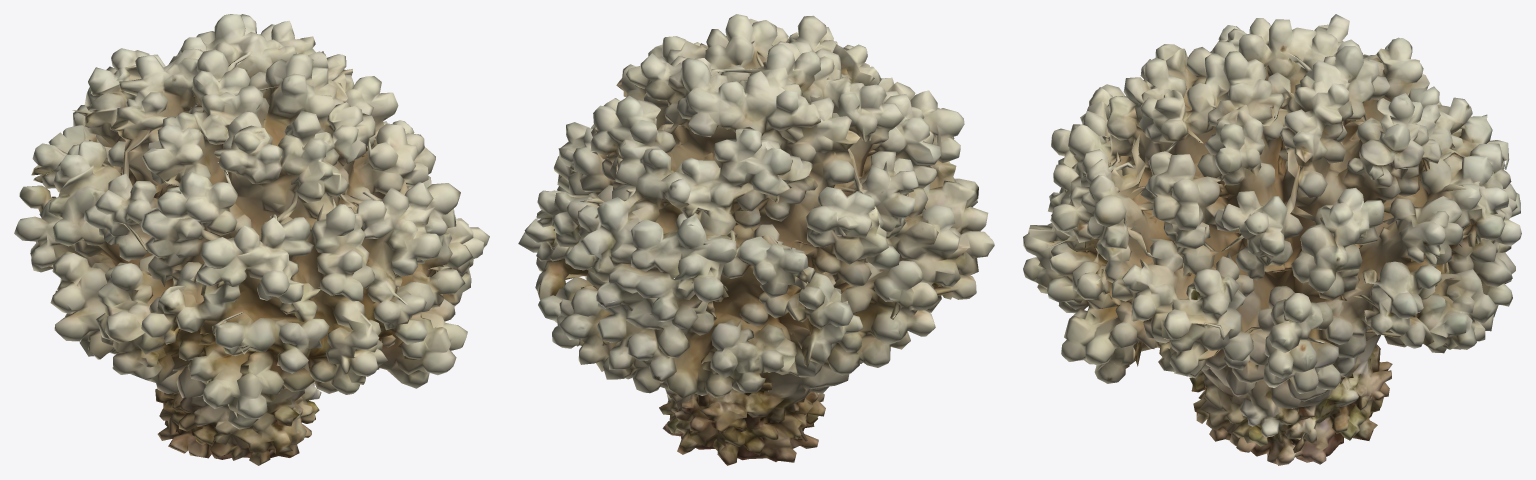
Rendered from coral_bubble.glb.
3 views of the same model, side by side, from view 1: azimuth 30°, elevation 25°; view 2: azimuth 150°, elevation 25°; view 3: azimuth 270°, elevation 25° (orthographic).
Visible parts, largest first — view 1: tripo_node_a3faecab-732f-41c3-b5f8-0a1e1e155c3c; view 2: tripo_node_a3faecab-732f-41c3-b5f8-0a1e1e155c3c; view 3: tripo_node_a3faecab-732f-41c3-b5f8-0a1e1e155c3c.
Part boxes in pixels (bbox=[...]): tripo_node_a3faecab-732f-41c3-b5f8-0a1e1e155c3c: bbox=[14, 14, 489, 465]; tripo_node_a3faecab-732f-41c3-b5f8-0a1e1e155c3c: bbox=[518, 14, 994, 465]; tripo_node_a3faecab-732f-41c3-b5f8-0a1e1e155c3c: bbox=[1023, 14, 1521, 465].
Bounding box in the file's own units: 0.8915 × 0.8952 × 1.
Materials: 1 (1 with a texture image).
